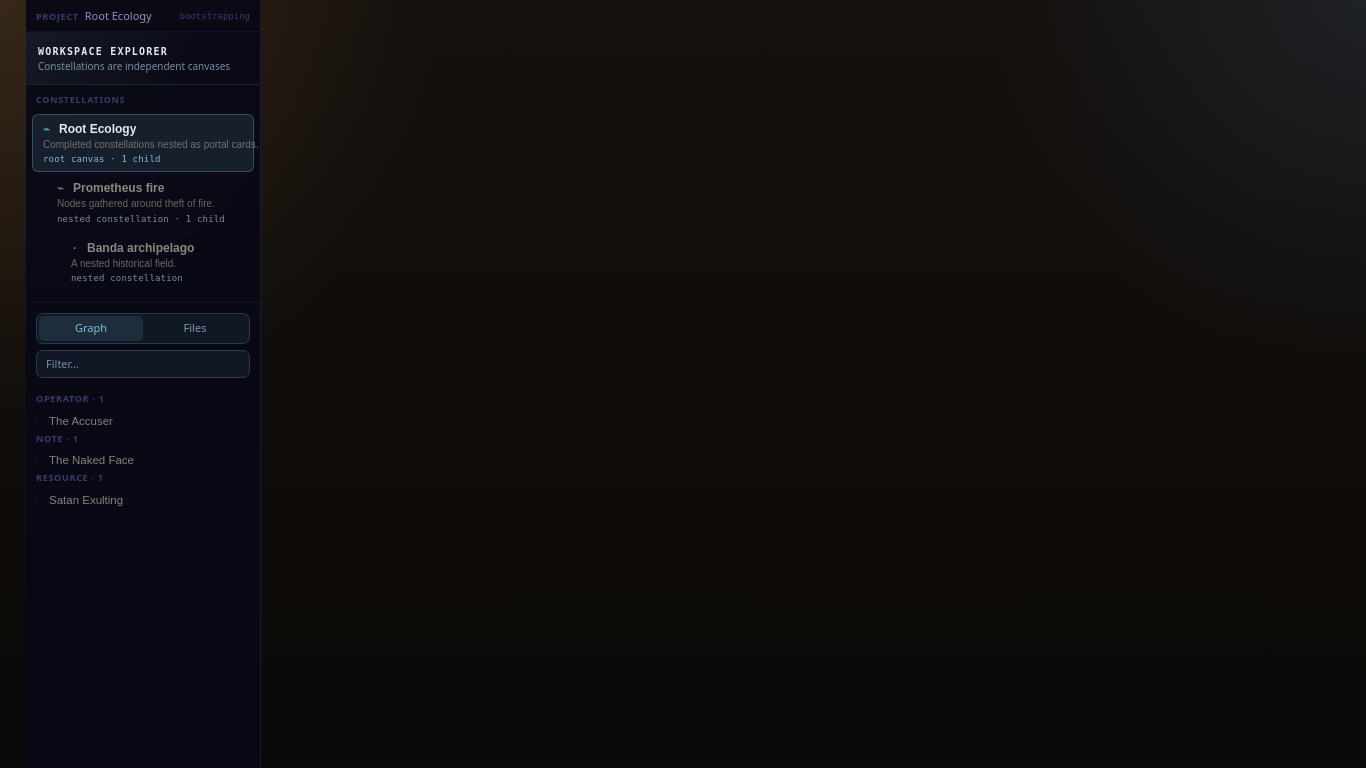
Test: LeftOverlay browser › filters graph rows by the query
This screenshot has width=1366, height=768.
Type "accus" into the field with test id "browser-filter".
click(143, 364); type("accus")  # box [36, 350, 250, 378]
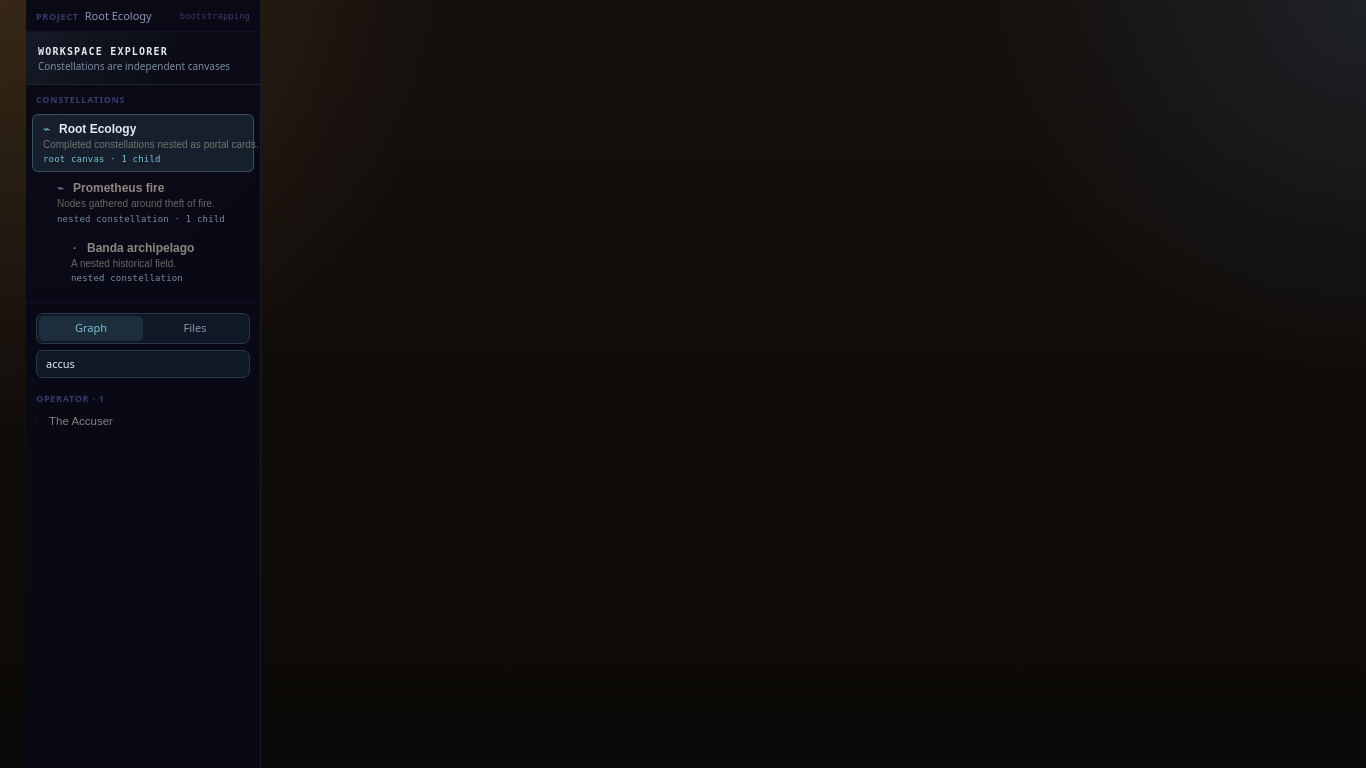
Check: the button with test id "graph-node-n1" is shown, box [26, 410, 260, 432]
Check: the button with test id "graph-node-n2" is gone
